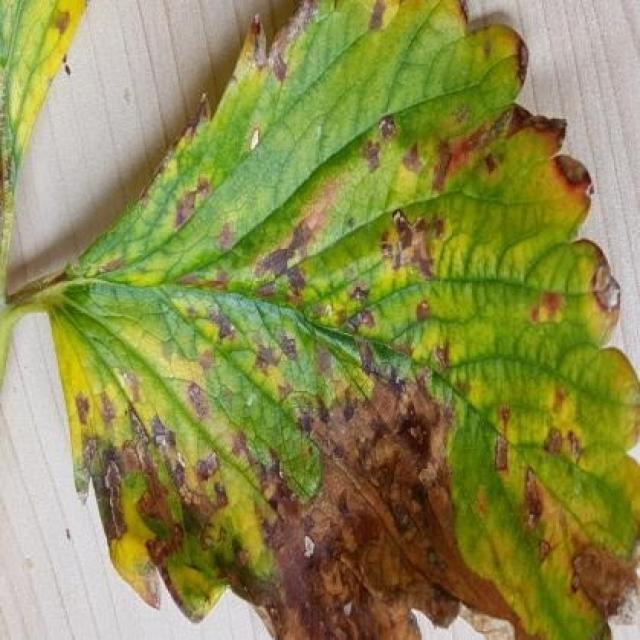Angular Leafspot: (36, 0, 638, 638)
